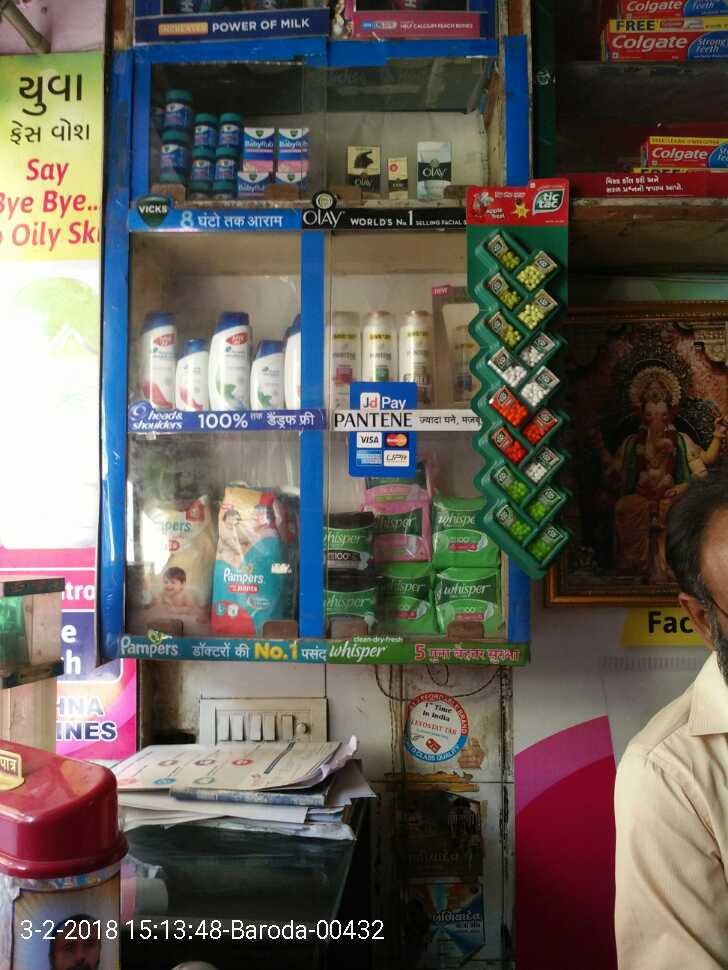beauty: (202, 310, 250, 408), (405, 306, 444, 411), (364, 308, 398, 414), (333, 312, 362, 420), (143, 320, 178, 403), (419, 130, 456, 197), (341, 146, 382, 199), (175, 345, 209, 407), (388, 149, 407, 202)
pharmacy: (211, 488, 301, 639), (134, 490, 218, 633), (433, 497, 507, 566), (380, 555, 430, 646), (319, 511, 380, 578), (317, 577, 380, 639), (439, 576, 505, 632), (155, 122, 195, 176), (236, 126, 274, 163), (219, 104, 247, 151), (186, 108, 215, 150), (273, 168, 308, 199), (279, 130, 310, 164), (158, 87, 189, 121), (215, 151, 238, 190), (240, 171, 273, 197), (191, 153, 212, 190)
